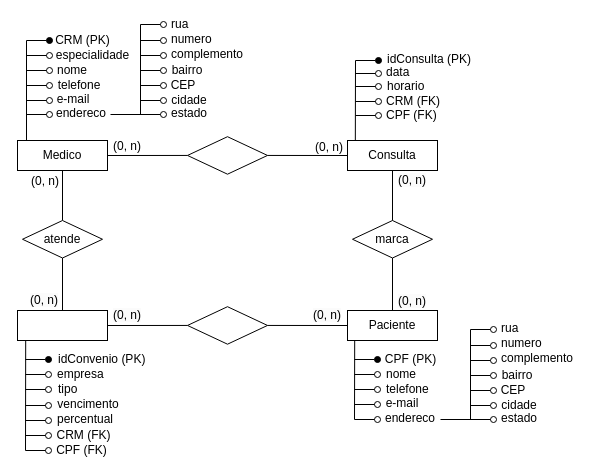
The diagram is 591 pixels wide and 476 high, and some of its shapes have lost their labels. Each missing label, with the centre of its shape:
Convenio: (62,325)
possui: (227,325)
realiza: (227,155)
